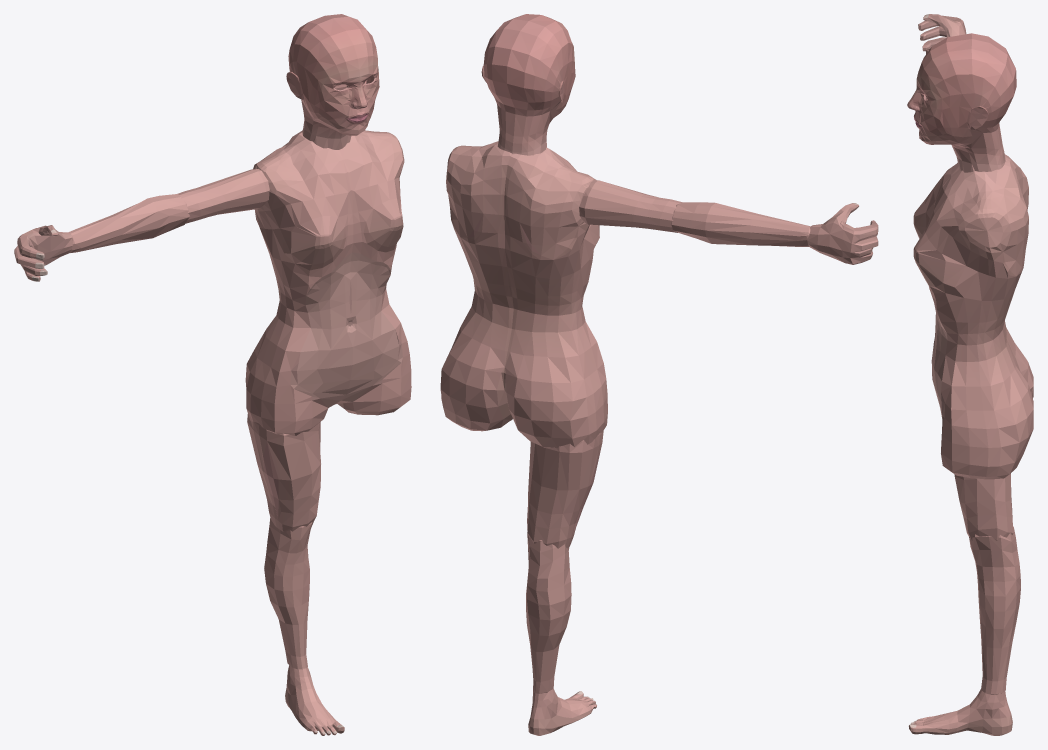
File: baseSkinTonePinkFemale.glb
The picture shows the model from 3 angles, left to right: view 1: azimuth 30°, elevation 25°; view 2: azimuth 150°, elevation 25°; view 3: azimuth 270°, elevation 25°; orthographic projection. The views are drawn at different scales.
Visible parts, largest first — view 1: nakedTorsoSkinTonePaleFemale.001, nakedHeadSkinTonePaleFemale.001, nakedUpperLegSkinTonePaleFemale.001, nakedLowerLegSkinTonePaleFemale.001, nakedLowerArmSkinTonePaleFemale.001, nakedUpperArmSkinTonePaleFemale.001, nakedFootSkinTonePaleFemale.001, nakedHandSkinTonePaleFemale.001; view 2: nakedTorsoSkinTonePaleFemale.001, nakedHeadSkinTonePaleFemale.001, nakedUpperLegSkinTonePaleFemale.001, nakedLowerLegSkinTonePaleFemale.001, nakedLowerArmSkinTonePaleFemale.001, nakedUpperArmSkinTonePaleFemale.001, nakedHandSkinTonePaleFemale.001, nakedFootSkinTonePaleFemale.001; view 3: nakedTorsoSkinTonePaleFemale.001, nakedHeadSkinTonePaleFemale.001, nakedLowerLegSkinTonePaleFemale.001, nakedUpperLegSkinTonePaleFemale.001, nakedFootSkinTonePaleFemale.001, nakedHandSkinTonePaleFemale.001.
Part boxes in pixels (x1=…): nakedTorsoSkinTonePaleFemale.001: x1=245, y1=130, x2=411, y2=435; nakedHeadSkinTonePaleFemale.001: x1=286, y1=14, x2=379, y2=149; nakedUpperLegSkinTonePaleFemale.001: x1=247, y1=414, x2=320, y2=531; nakedLowerLegSkinTonePaleFemale.001: x1=264, y1=518, x2=313, y2=669; nakedLowerArmSkinTonePaleFemale.001: x1=68, y1=194, x2=189, y2=252; nakedUpperArmSkinTonePaleFemale.001: x1=177, y1=169, x2=269, y2=223; nakedFootSkinTonePaleFemale.001: x1=285, y1=665, x2=344, y2=735; nakedHandSkinTonePaleFemale.001: x1=14, y1=225, x2=72, y2=281; nakedTorsoSkinTonePaleFemale.001: x1=440, y1=141, x2=607, y2=447; nakedHeadSkinTonePaleFemale.001: x1=481, y1=14, x2=575, y2=155; nakedUpperLegSkinTonePaleFemale.001: x1=527, y1=431, x2=603, y2=548; nakedLowerLegSkinTonePaleFemale.001: x1=526, y1=532, x2=571, y2=693; nakedLowerArmSkinTonePaleFemale.001: x1=671, y1=202, x2=810, y2=246; nakedUpperArmSkinTonePaleFemale.001: x1=579, y1=180, x2=681, y2=232; nakedHandSkinTonePaleFemale.001: x1=807, y1=203, x2=878, y2=264; nakedFootSkinTonePaleFemale.001: x1=528, y1=689, x2=596, y2=735; nakedTorsoSkinTonePaleFemale.001: x1=913, y1=154, x2=1033, y2=479; nakedHeadSkinTonePaleFemale.001: x1=907, y1=33, x2=1016, y2=172; nakedLowerLegSkinTonePaleFemale.001: x1=969, y1=526, x2=1020, y2=694; nakedUpperLegSkinTonePaleFemale.001: x1=954, y1=473, x2=1013, y2=540; nakedFootSkinTonePaleFemale.001: x1=908, y1=688, x2=1012, y2=735; nakedHandSkinTonePaleFemale.001: x1=918, y1=14, x2=966, y2=53.
Bounding box in the file's own units: 1.15 × 1.87 × 0.3027.
